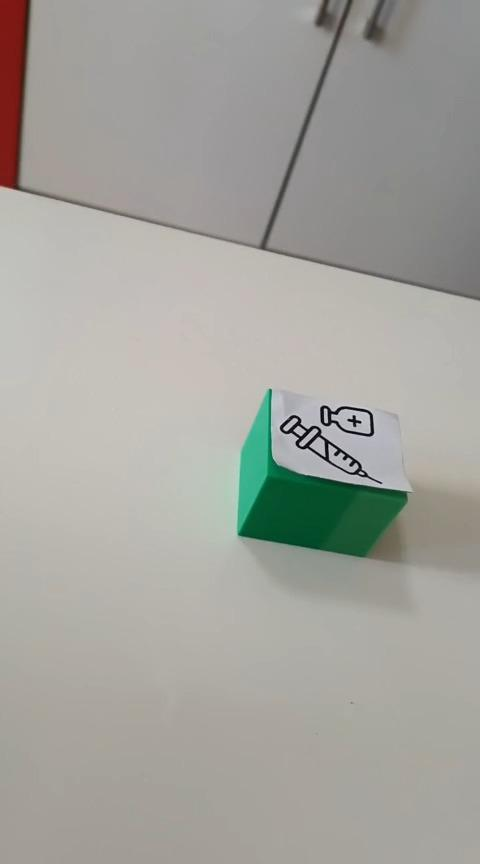antiseptic cream: (235, 386, 413, 558)
